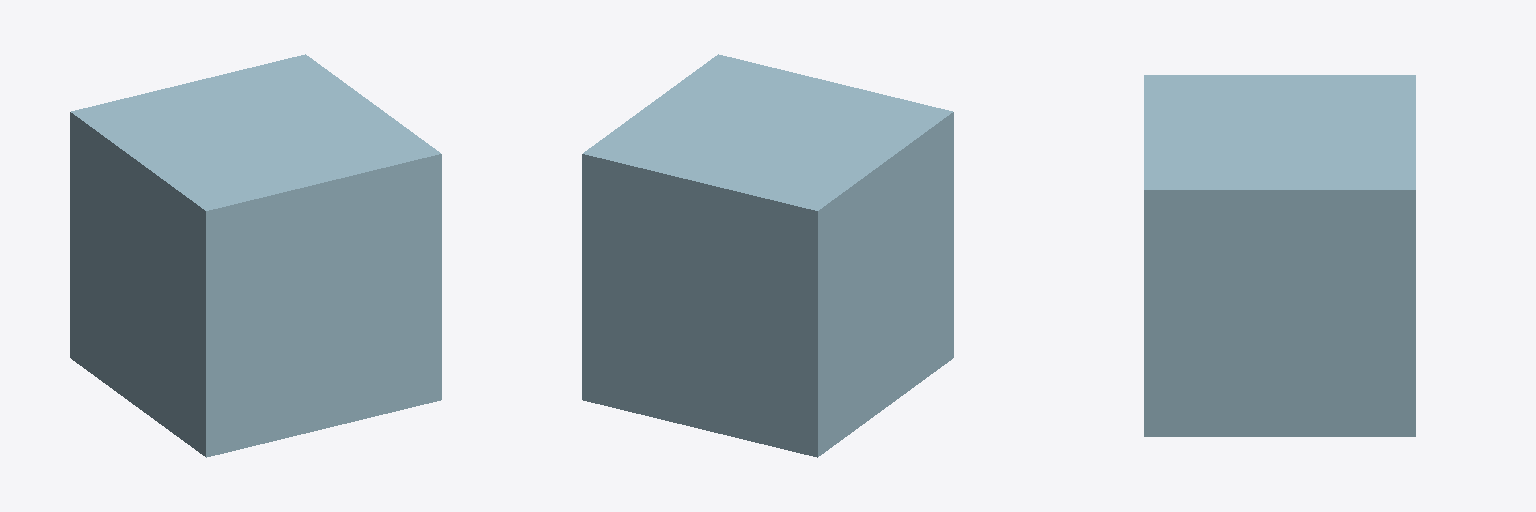
3 renders of one model, left to right at view 1: azimuth 30°, elevation 25°; view 2: azimuth 150°, elevation 25°; view 3: azimuth 270°, elevation 25°, orthographic.
Visible parts, largest first — view 1: Cube; view 2: Cube; view 3: Cube.
Boxes of the visible parts, <box> form: Cube: <box>70,54,441,457</box>; Cube: <box>582,54,953,457</box>; Cube: <box>1144,75,1415,436</box>.
Size of the model in its own units: 2 by 2 by 2.
Materials: 1 (1 with a texture image).